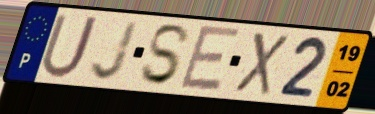2: (277, 34, 330, 103)
E: (176, 23, 244, 93)
J: (88, 19, 142, 83)
S: (138, 22, 193, 87)
U: (38, 12, 102, 81)
X: (232, 30, 291, 98)
